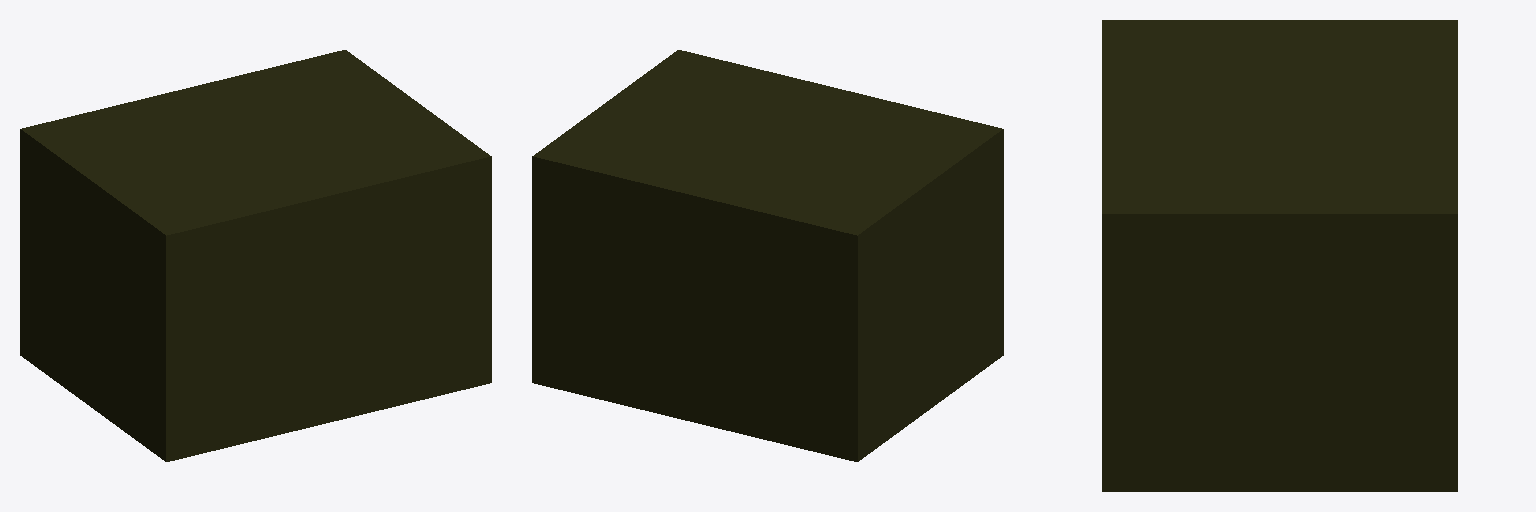
URDF robot description (random_box):
<?xml version='1.0' encoding='UTF-8'?>
<robot name="random_box">
  <link name="box">

    <inertial>
      <mass value="0.3"/>
      <origin xyz="0 0 0" rpy="0 0 0"/>
      <inertia ixx="0.1" ixy="0.1" ixz="0.1" iyy="0.1" iyz="0.1" izz="0.1"/>
    </inertial>

    <visual>
      <geometry>
        <box size="0.9 0.7 0.6"/>
      </geometry>
      <material name="color">
        <color rgba="0.2 0.2 0.1 1"/>
      </material>
    </visual>
    <collision>
      <geometry>
        <box size="0.9 0.7 0.6"/>
      </geometry>

      <surface>
        <friction>
          <ode>
            <mu>100000000.0</mu>
            <mu2>100000000.0</mu2>
          </ode>
        </friction>
        <contact>
          <ode>
            <min_depth>0.003</min_depth>
          </ode>
        </contact>
      </surface>

    </collision>

  </link>
</robot>

--- Facts derived from the render (not from the file) ---
3 views of the same robot in one strip: view 1: azimuth 30°, elevation 25°; view 2: azimuth 150°, elevation 25°; view 3: azimuth 270°, elevation 25° (orthographic).
Robot: random_box — 1 links, 0 joints (none); root link box; default pose: every joint at zero.
Visible links, largest first — view 1: box; view 2: box; view 3: box.
Link boxes in pixels (x1,y1,x2,y2): box: (20,50,491,461); box: (532,50,1003,461); box: (1102,20,1457,491).
Size in the robot's own frame: 0.9 by 0.7 by 0.6 metres.
Geometry: primitives only (box / cylinder / sphere), no mesh files.